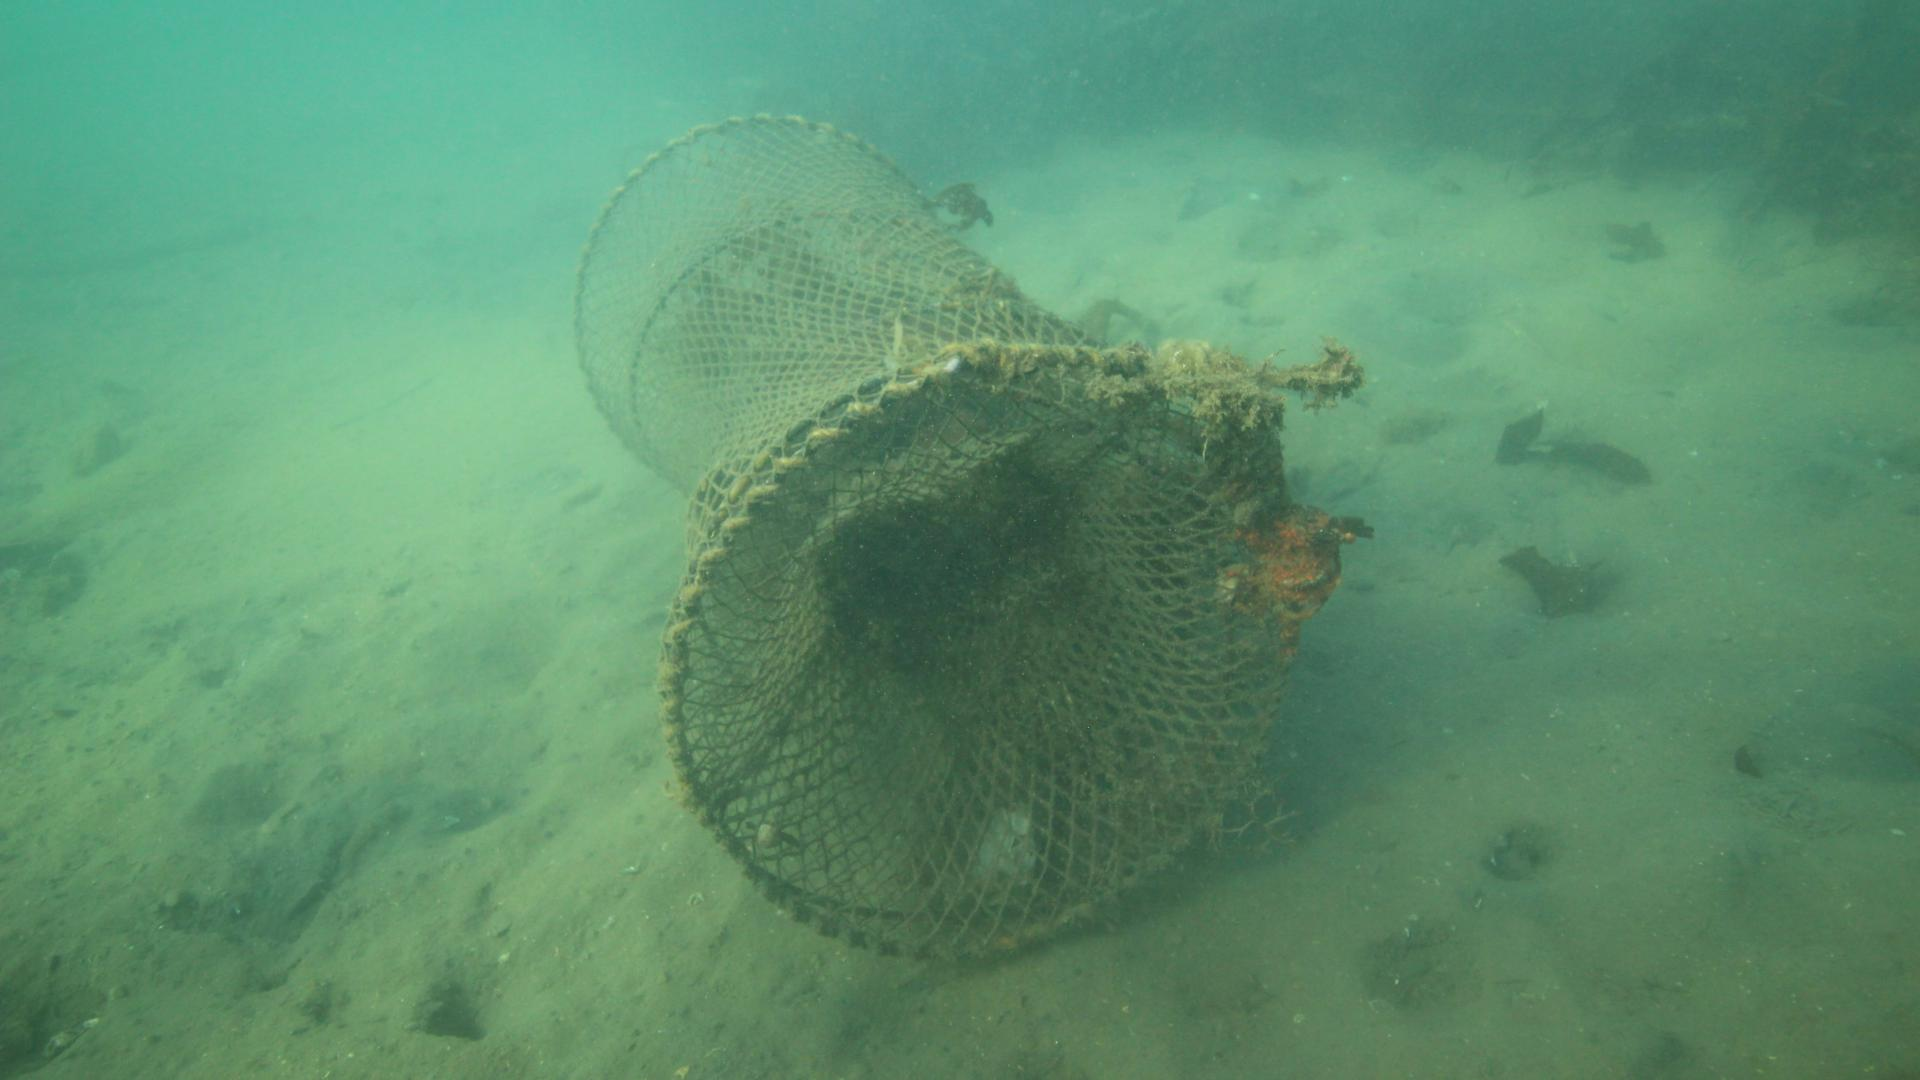spring fish trap: (574, 111, 1298, 964)
